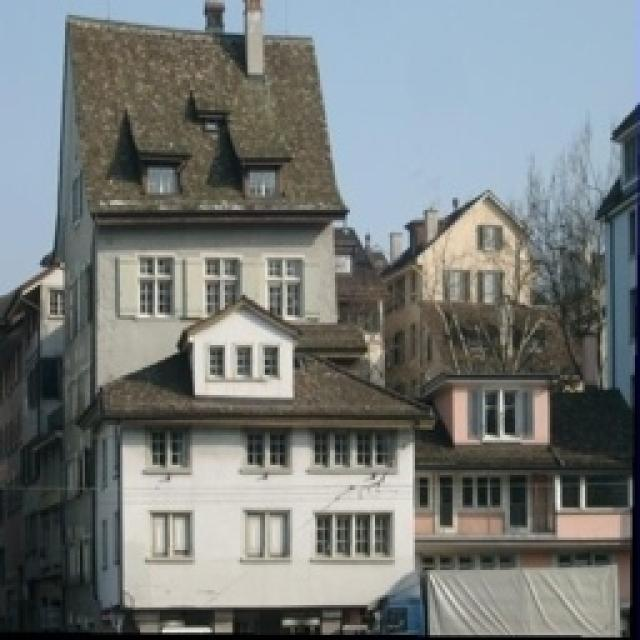building: (50, 15, 428, 640)
